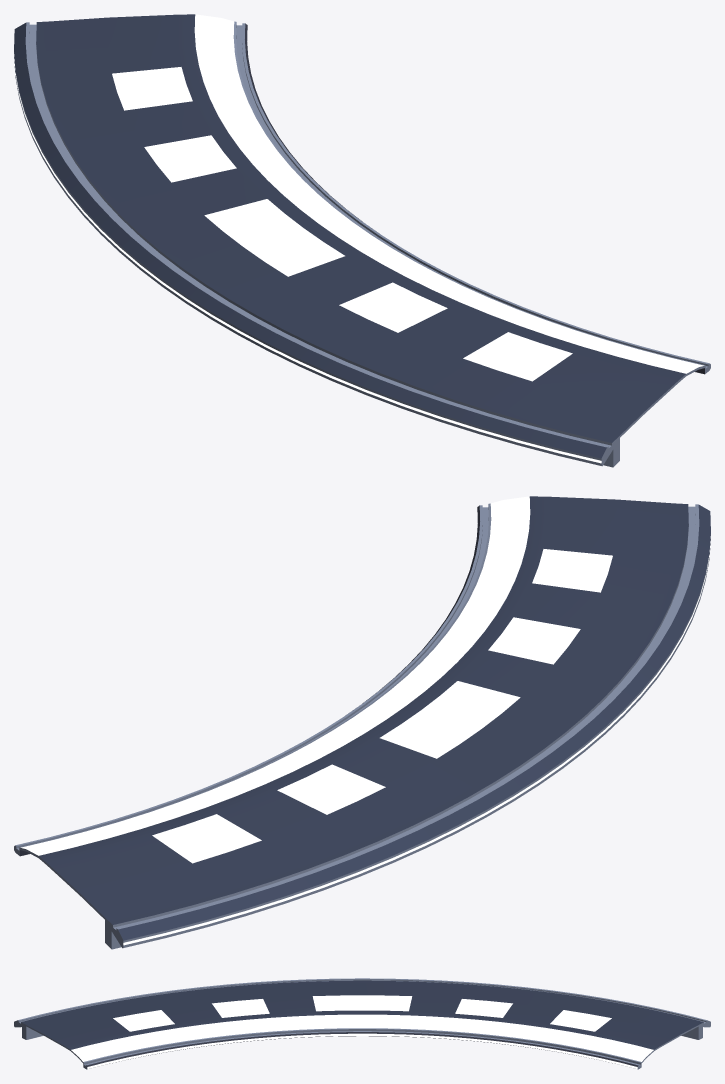
The model's file is roof_canopy_east.glb.
3 renders of one model, top to bottom at view 1: azimuth 30°, elevation 25°; view 2: azimuth 150°, elevation 25°; view 3: azimuth 270°, elevation 25°, orthographic. The views are drawn at different scales.
Parts seen in each view (by area): view 1: roof_canopy_east; view 2: roof_canopy_east; view 3: roof_canopy_east.
Boxes of the visible parts, x1=… form: roof_canopy_east: x1=14, y1=14, x2=710, y2=467; roof_canopy_east: x1=14, y1=496, x2=710, y2=949; roof_canopy_east: x1=14, y1=978, x2=710, y2=1069.
Bounding box in the file's own units: 62.79 × 6.75 × 201.
